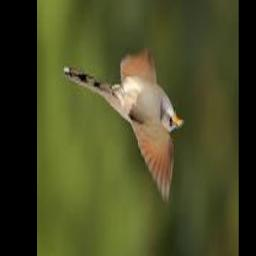Cuckoo: (63, 57, 184, 199)
